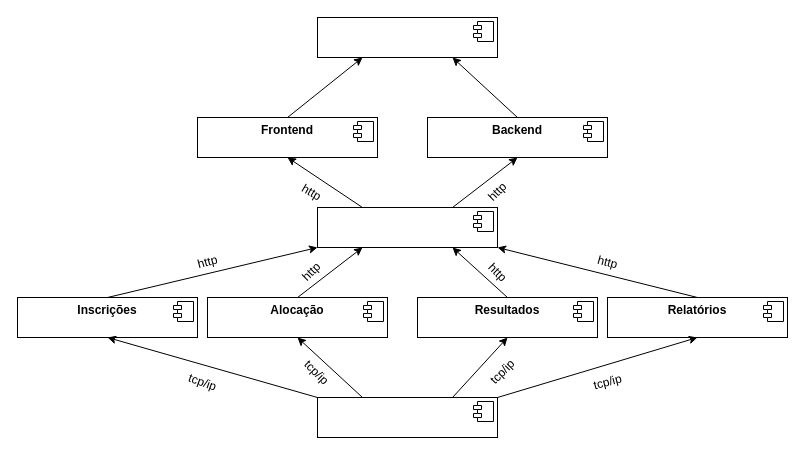
This 805x455 diagram has some shape labels left out. The centre of each missing label's shape, as x and y in pixels:
"Api Layer" goes at [407,227].
"Banco de Dados" goes at [407,417].
"Servidor de Aplicação" goes at [407,37].
